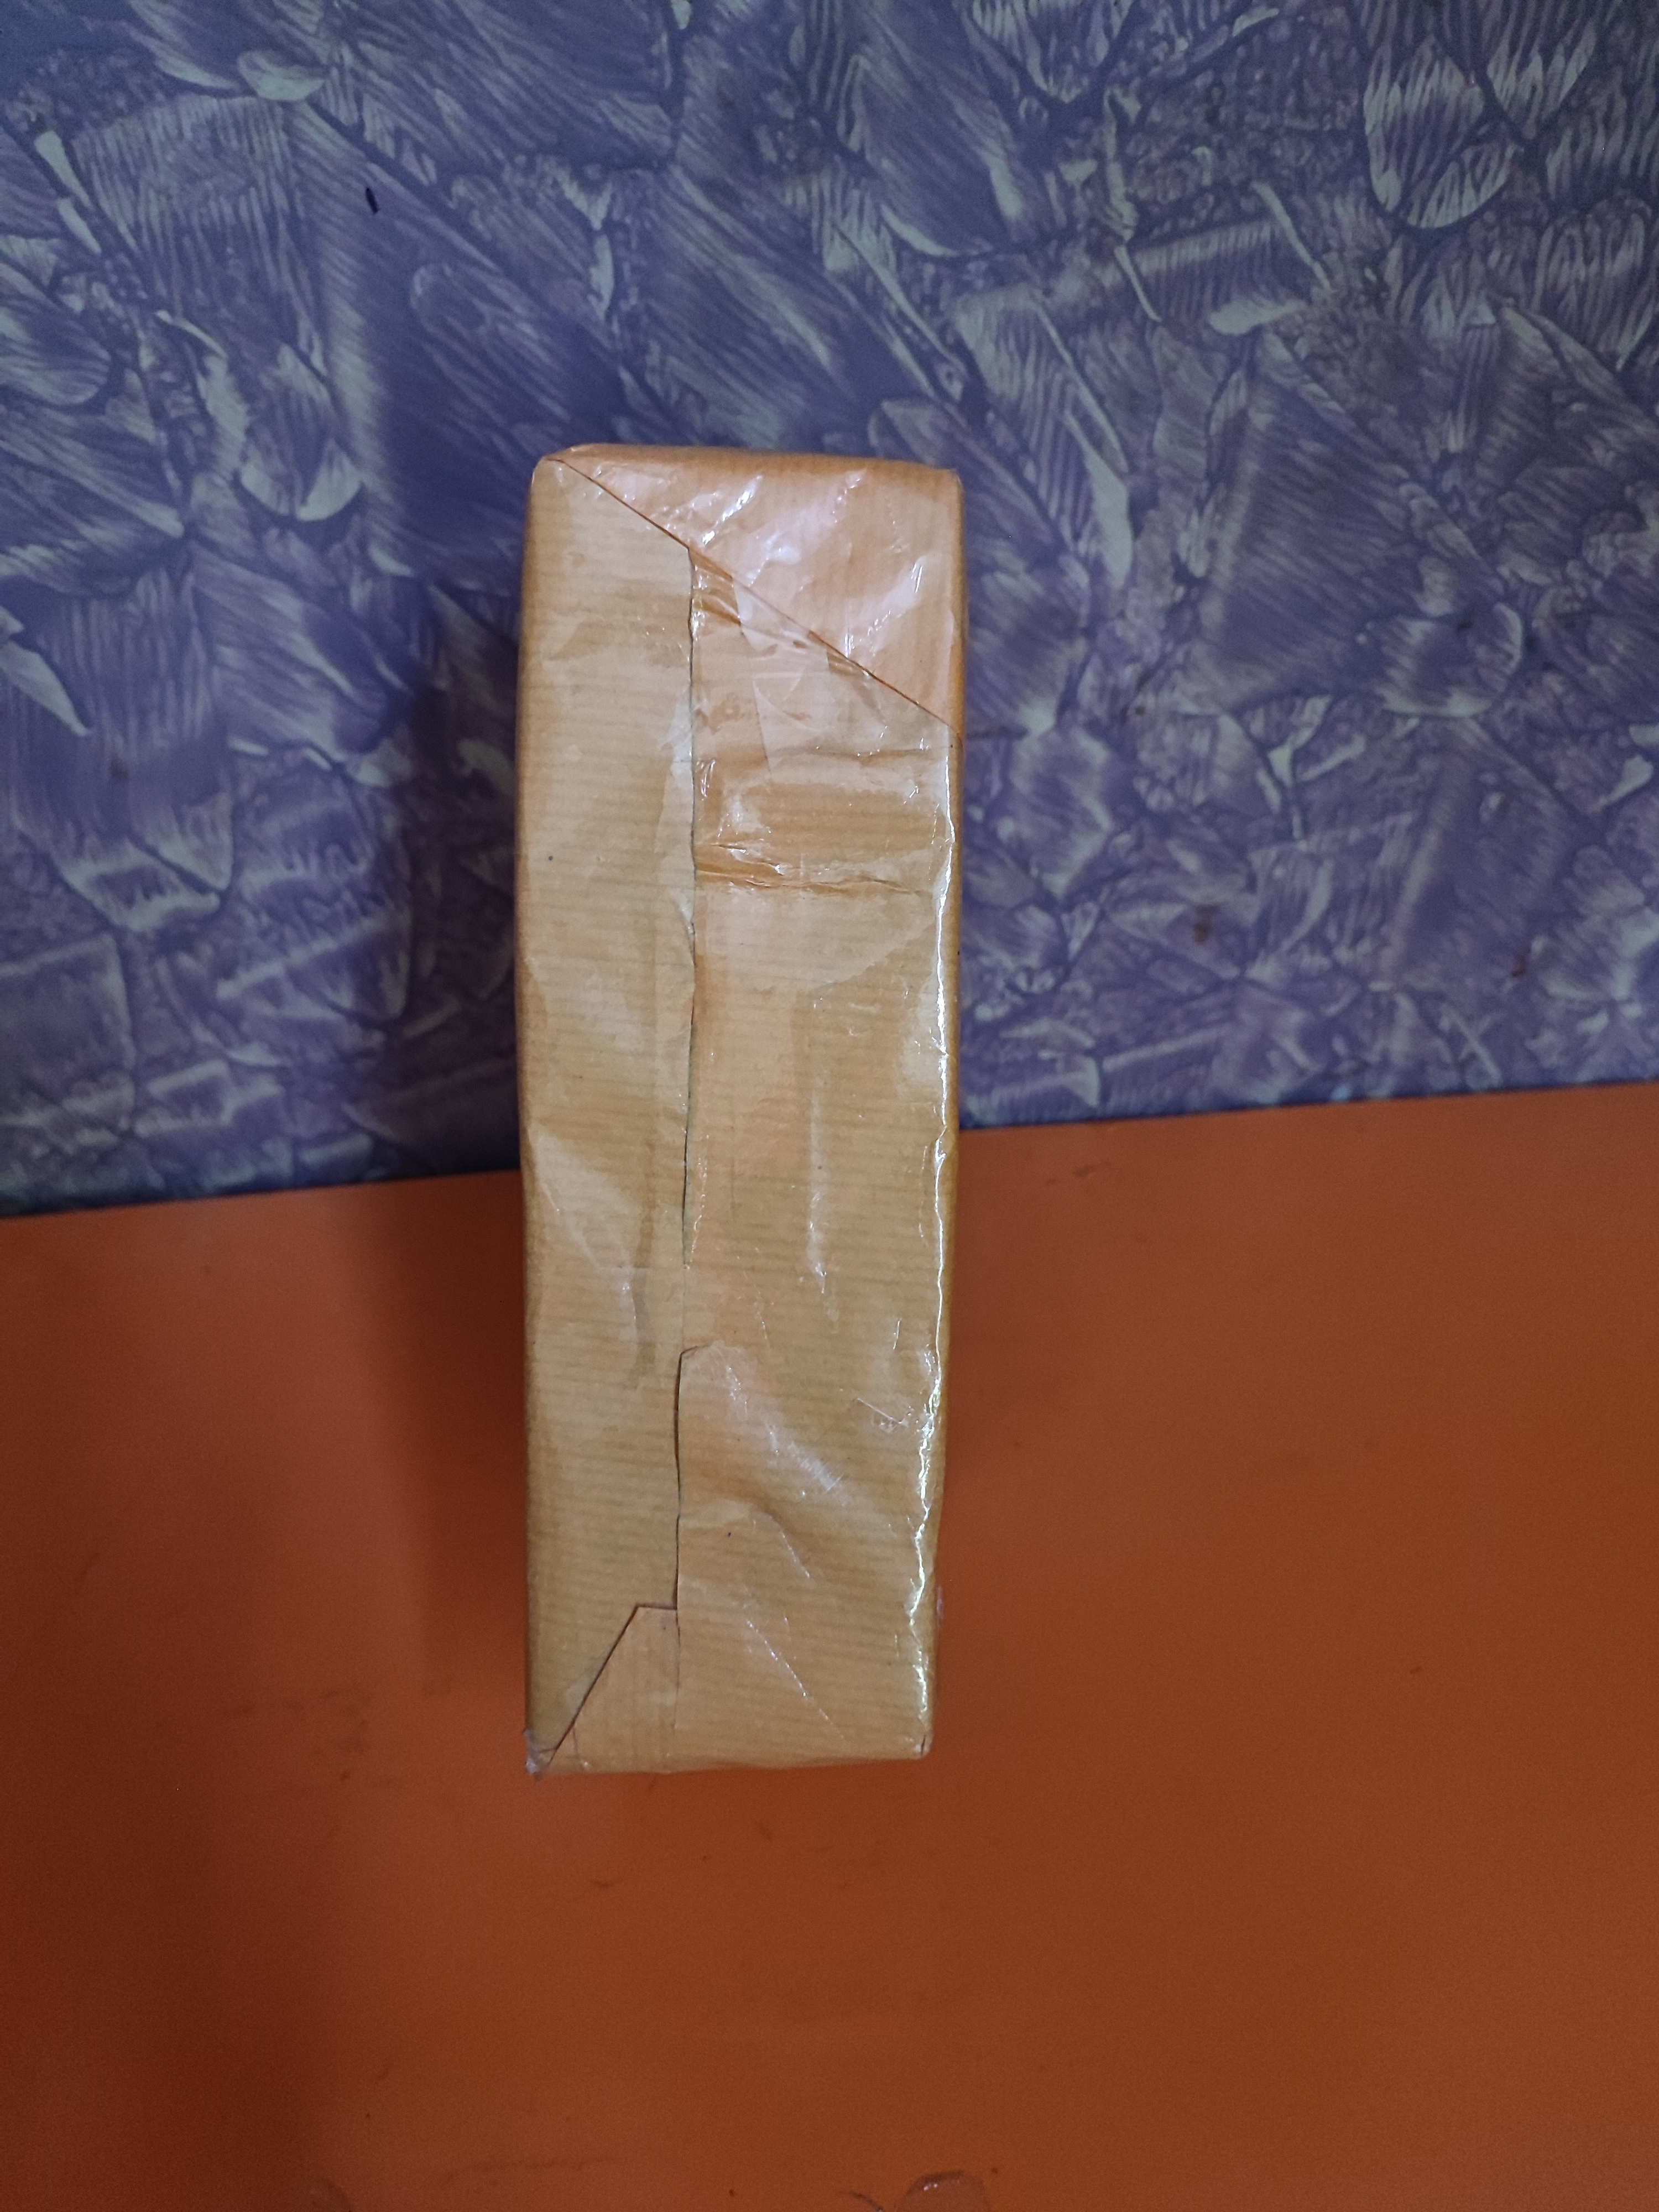Box: (434, 409, 958, 1954)
